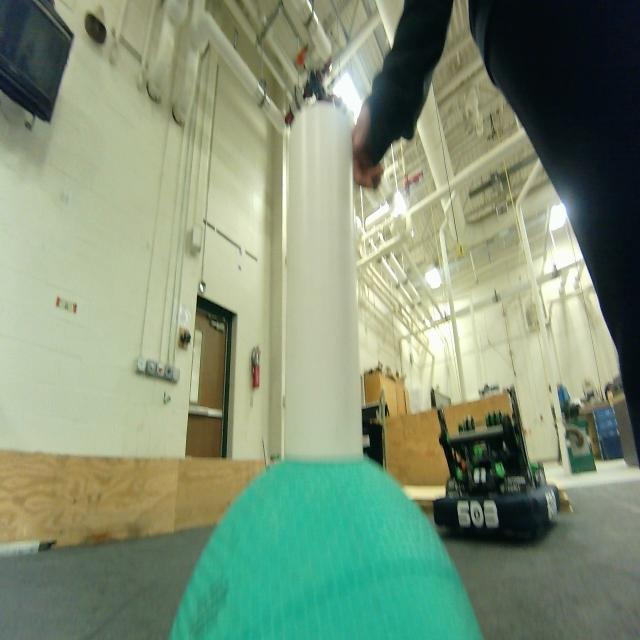algae: (163, 447, 488, 640)
coral: (278, 90, 374, 464)
